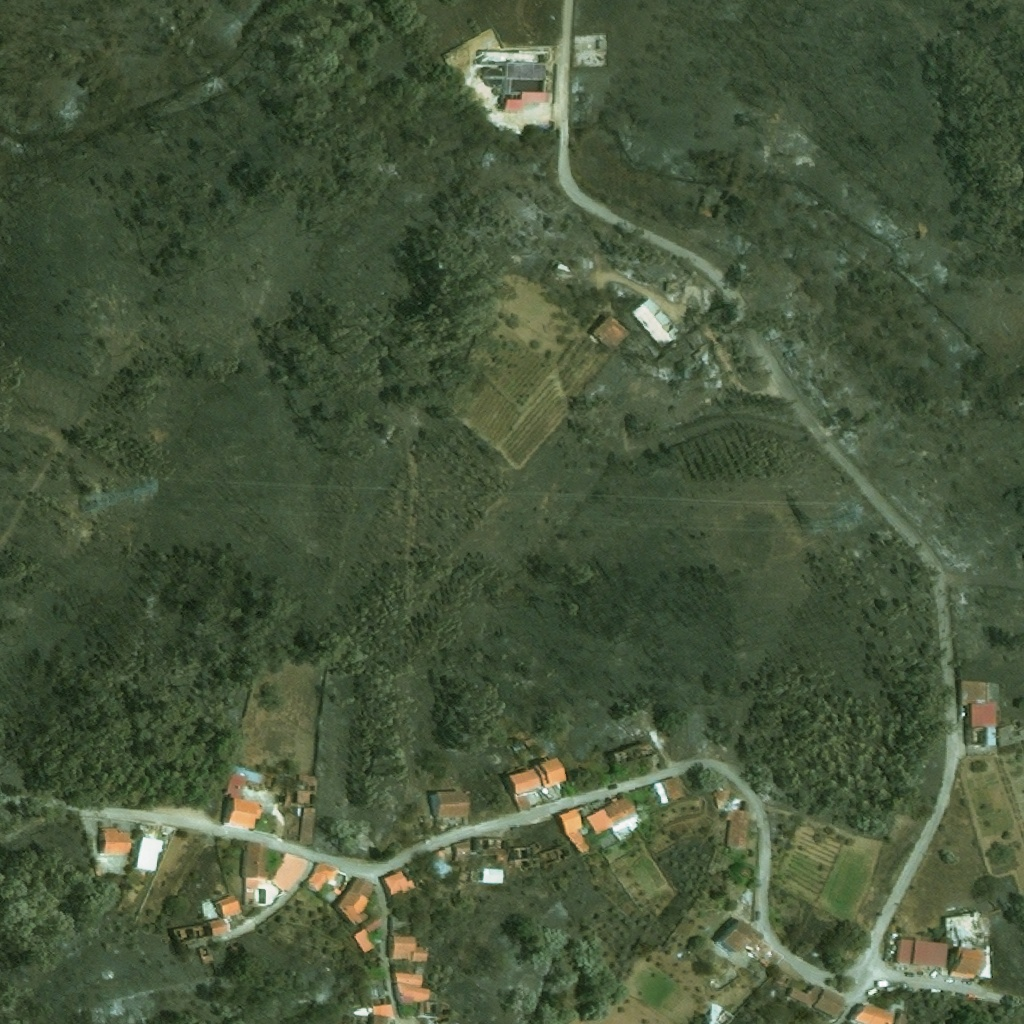0 no-damage: (504, 757, 566, 811), (496, 62, 549, 115), (586, 795, 645, 839), (332, 874, 378, 928), (893, 934, 949, 969), (555, 807, 594, 855), (241, 841, 270, 904), (586, 314, 629, 352), (271, 852, 311, 891), (963, 703, 998, 747), (721, 920, 762, 955), (726, 797, 752, 849), (392, 971, 431, 1003), (133, 823, 157, 872), (428, 791, 471, 818), (812, 986, 847, 1019), (223, 798, 261, 828), (380, 867, 416, 898), (389, 935, 428, 961), (787, 981, 824, 1007), (307, 862, 336, 894), (652, 776, 683, 805), (852, 1003, 895, 1023), (97, 828, 129, 854), (230, 765, 265, 788), (297, 807, 317, 845), (216, 893, 244, 920), (959, 680, 989, 705), (352, 928, 374, 954), (709, 785, 729, 807), (481, 868, 503, 884), (201, 902, 217, 921), (453, 844, 470, 859)
1 minor-damage: (628, 298, 686, 358)
2 major-damage: (942, 908, 993, 981), (364, 978, 395, 1023), (433, 847, 451, 875)
3 destroyed: (172, 918, 230, 947), (572, 34, 609, 68), (609, 741, 654, 768), (283, 774, 318, 807), (473, 838, 510, 861), (418, 1002, 451, 1023), (512, 845, 540, 864), (388, 914, 408, 930), (713, 1010, 734, 1023), (555, 263, 569, 274)
